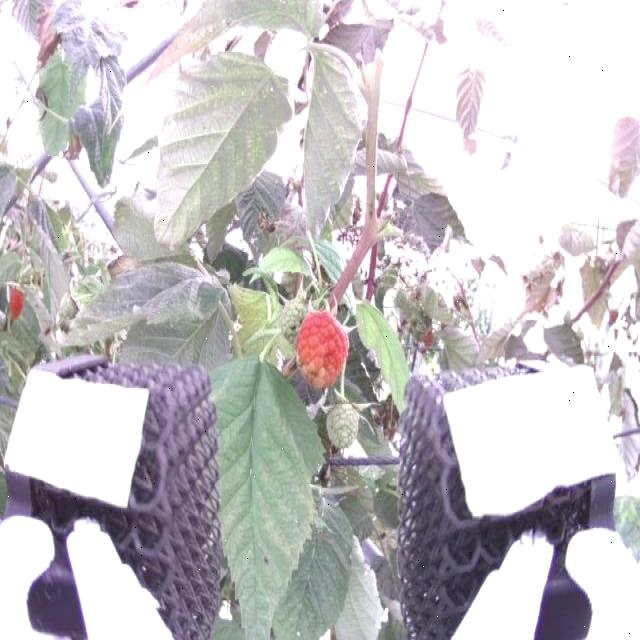Riped berries: (293, 307, 350, 389)
